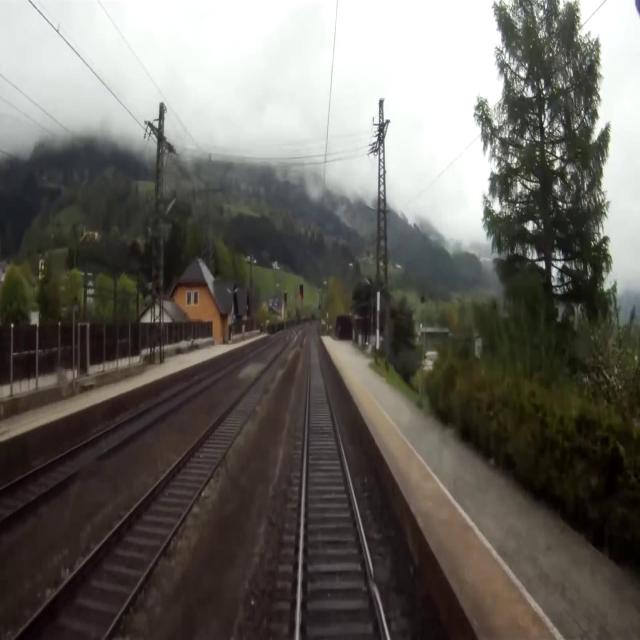rail-track: (16, 335, 296, 639), (0, 353, 253, 516), (301, 321, 385, 639)
